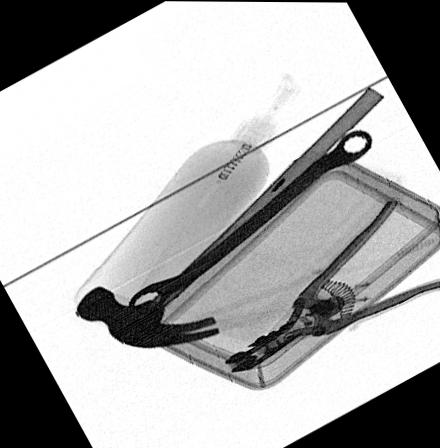Hammer: (73, 81, 384, 348)
Pliers: (222, 190, 440, 379)
Wrench: (125, 127, 372, 318)
